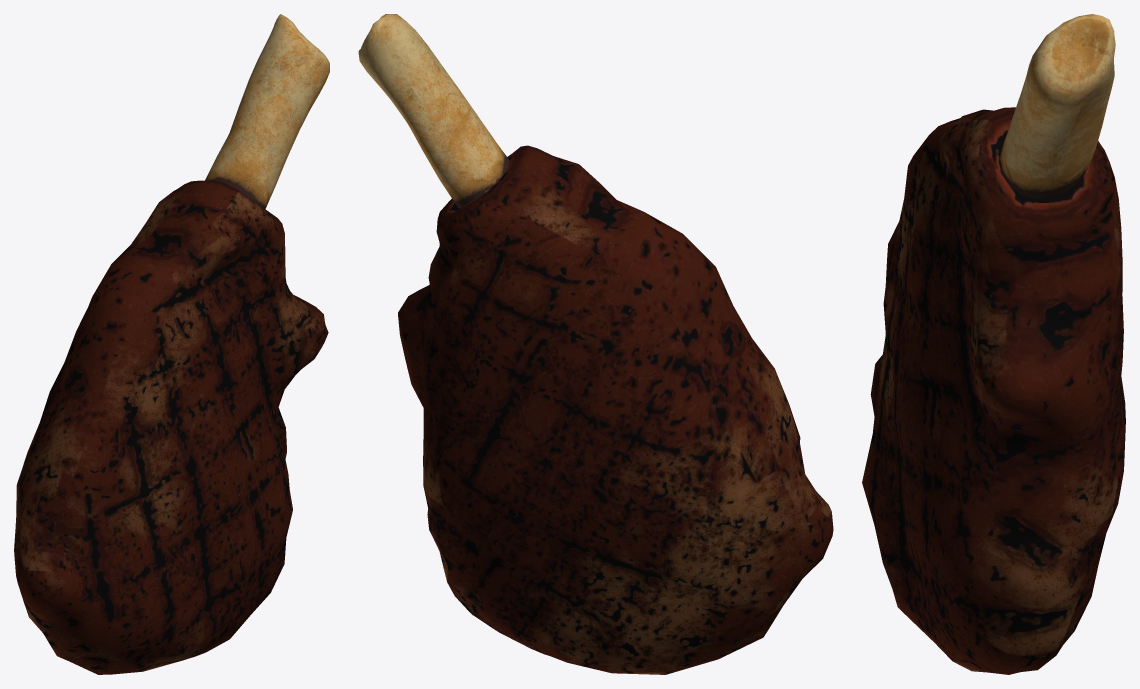
Rendered from roasted_meat-transformed.glb.
The picture shows the model from 3 angles, left to right: view 1: azimuth 30°, elevation 25°; view 2: azimuth 150°, elevation 25°; view 3: azimuth 270°, elevation 25°; orthographic projection. The views are drawn at different scales.
Visible parts, largest first — view 1: Object_4; view 2: Object_4; view 3: Object_4.
Part boxes in pixels (left/top/right/bottom): Object_4: left=14, top=14, right=329, bottom=674; Object_4: left=358, top=14, right=833, bottom=674; Object_4: left=862, top=14, right=1125, bottom=674.
Size of the model in its own units: 3.02 by 4.56 by 1.49.
1 material, 1 textured.
